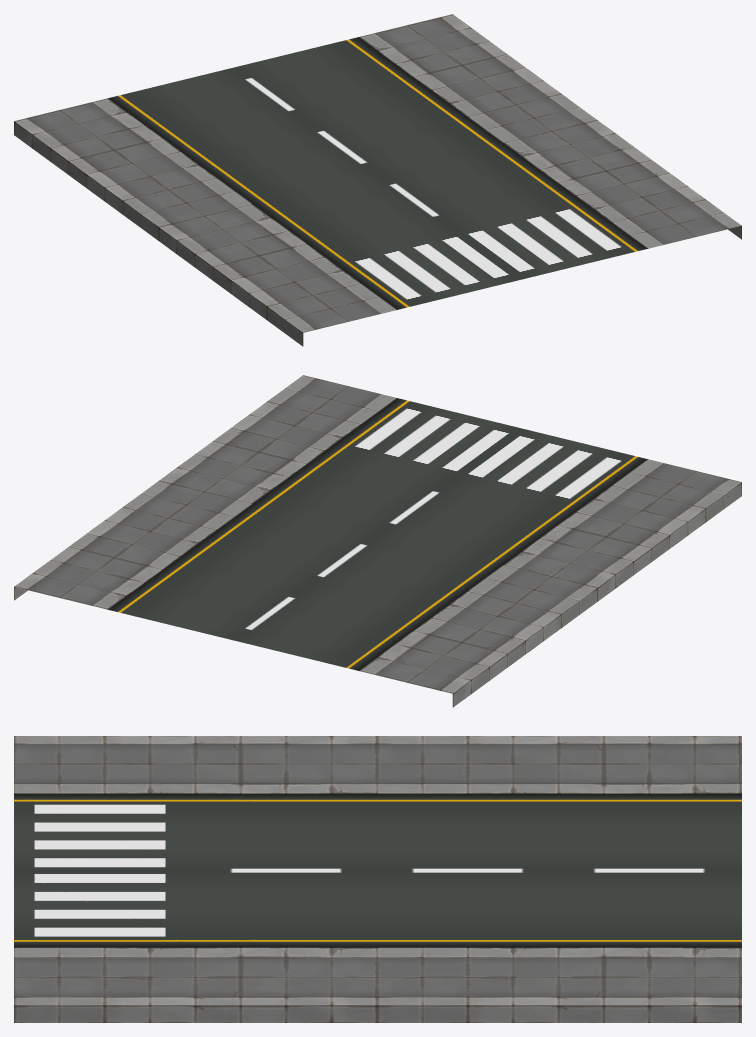
File: Road8.fbx
The picture shows the model from 3 angles, top to bottom: view 1: azimuth 30°, elevation 25°; view 2: azimuth 150°, elevation 25°; view 3: azimuth 270°, elevation 25°; orthographic projection. The views are drawn at different scales.
Parts seen in each view (by area): view 1: polySurface37; view 2: polySurface37; view 3: polySurface37.
Part boxes in pixels (bbox=[...]): polySurface37: bbox=[14, 14, 741, 346]; polySurface37: bbox=[14, 375, 741, 707]; polySurface37: bbox=[14, 736, 741, 1022].
Size of the model in its own units: 10.51 by 0.3198 by 12.
